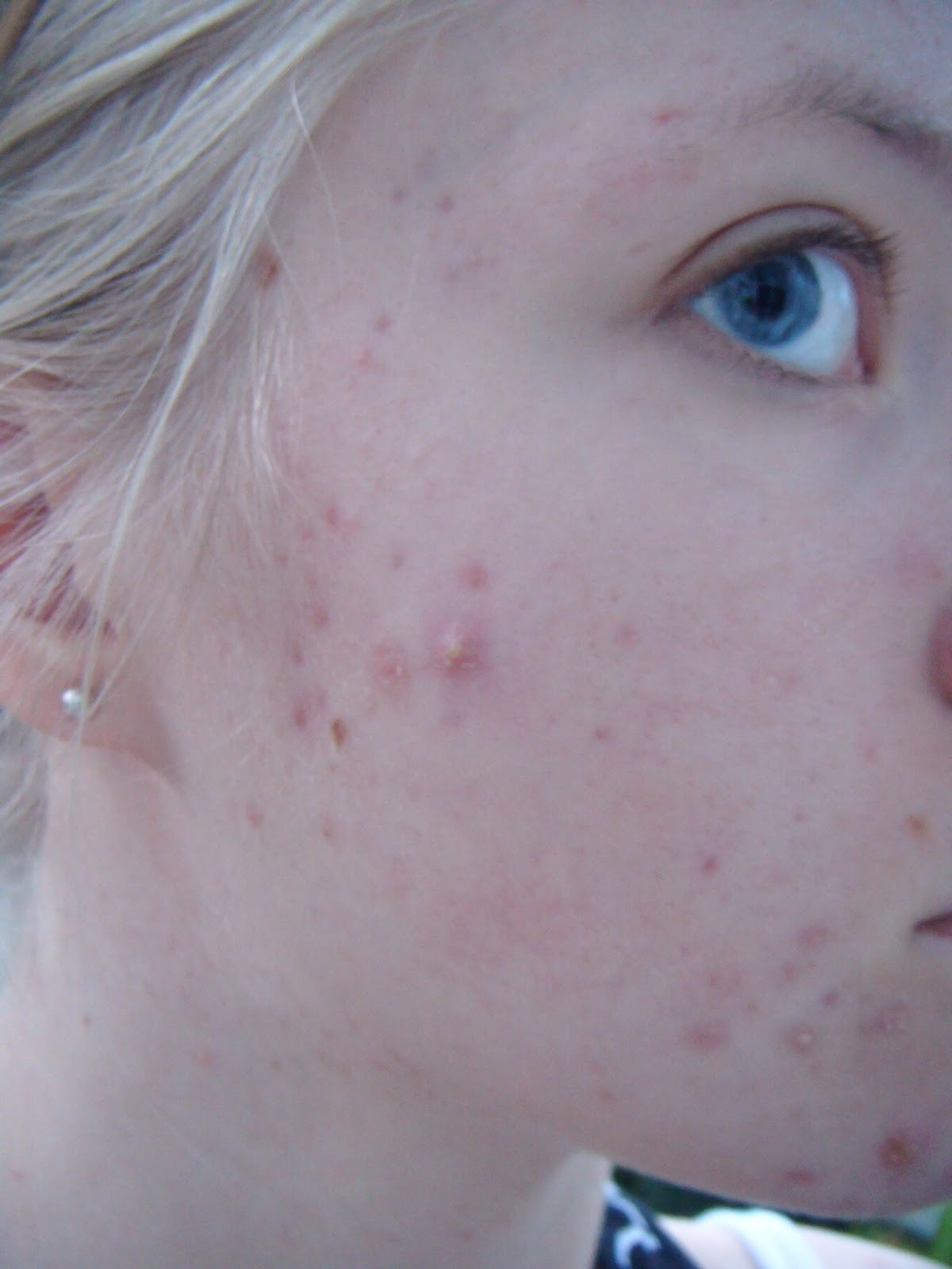Acne: (248, 322, 608, 807)
